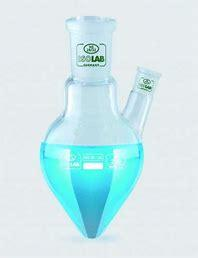Pear shaped flask: (31, 13, 158, 237)
